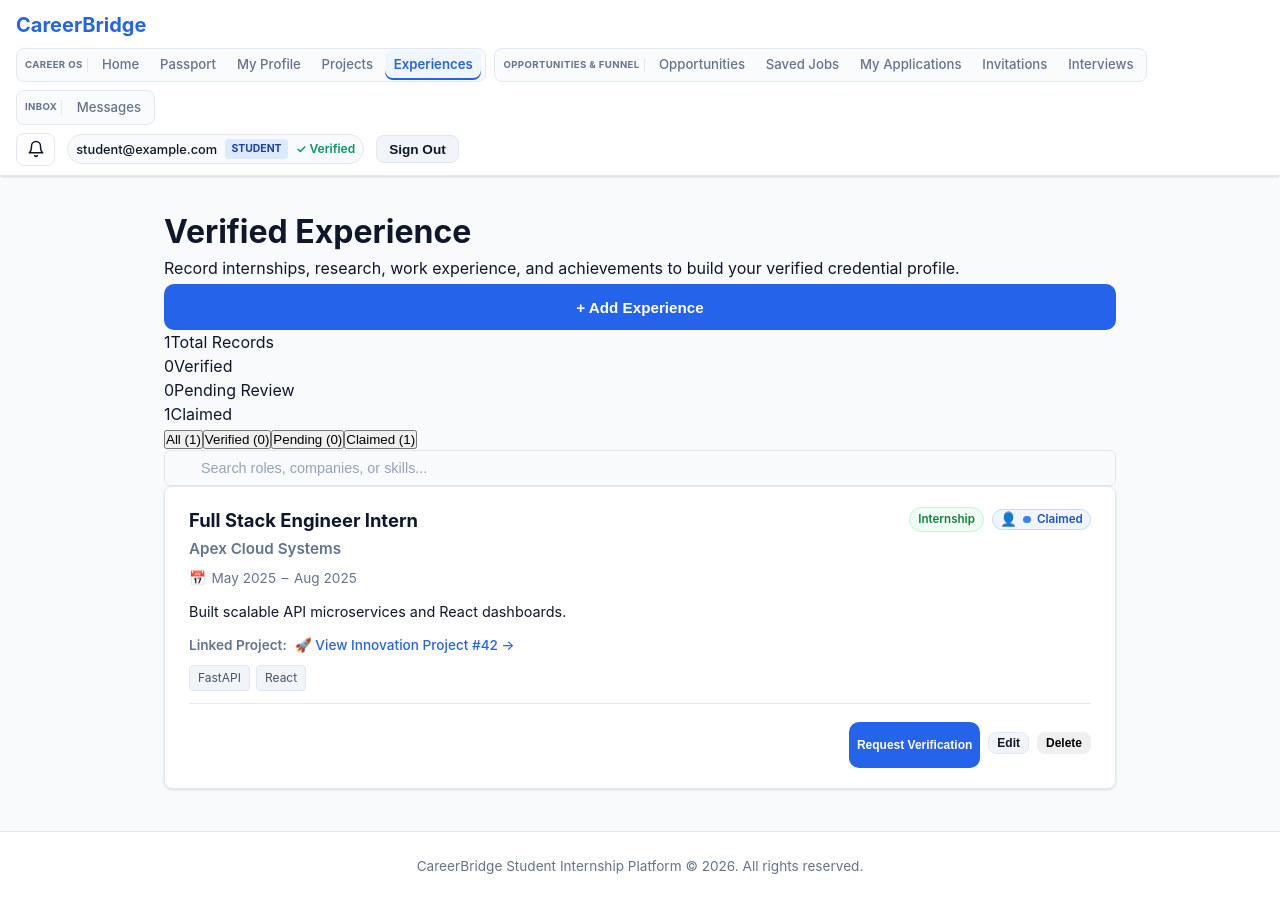
Scenario: Verified Experience Full End-to-End Integration Flow (Phase 5) › Flow 6: Error Handling & Resilience (400, 403, 404, 409, 500) › gracefully handles backend conflict error during verification request
Expected: the heading "Full Stack Engineer Intern" is shown, [189,507,418,534]
Click the button with test id "request-verify-btn-101". click: coordinates (915, 745)
box: [849,722,980,768]
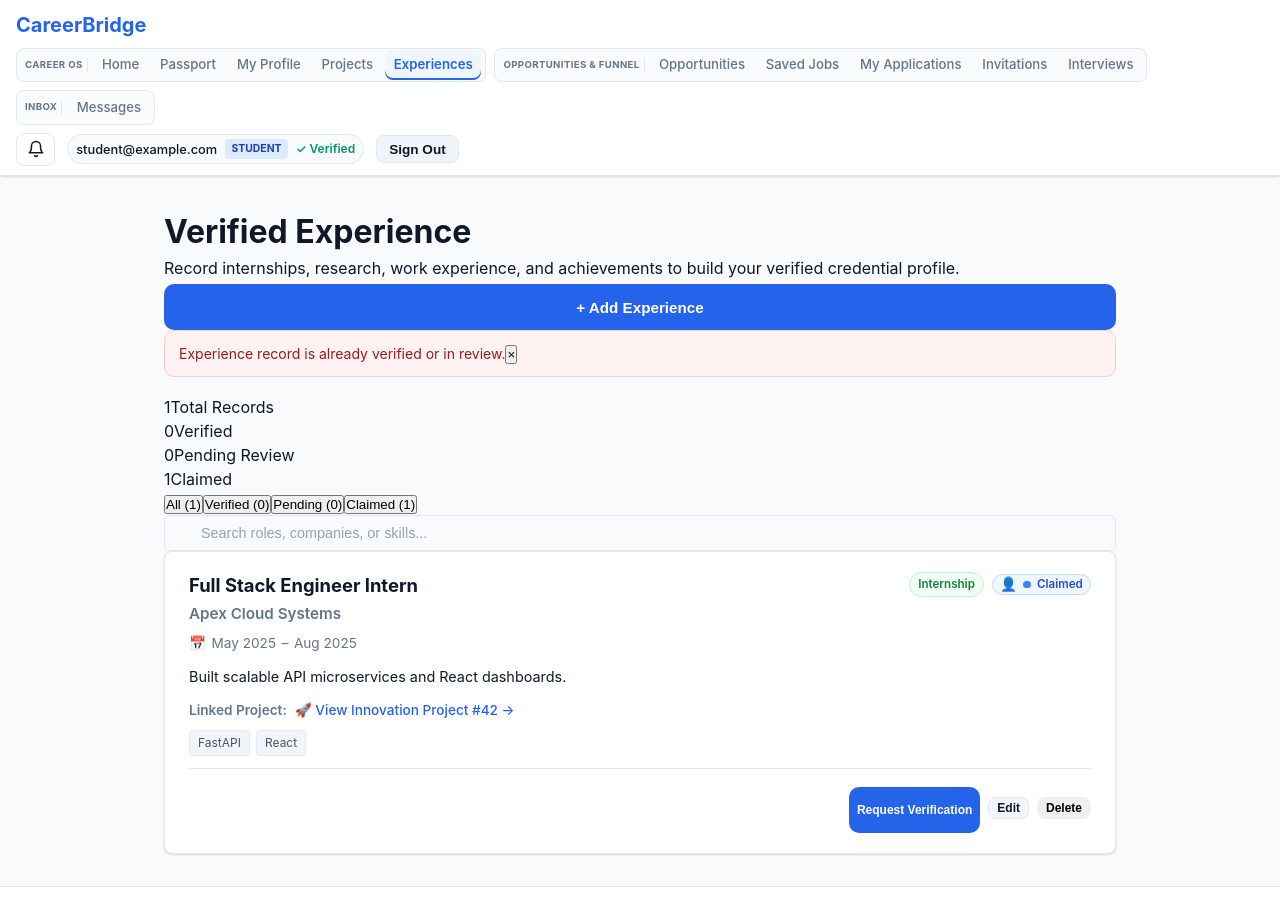
Expected: the heading "Full Stack Engineer Intern" is shown, [189,572,418,599]
Result: the text "Experience record is already verified or in review." is shown at [179,345,505,362]
